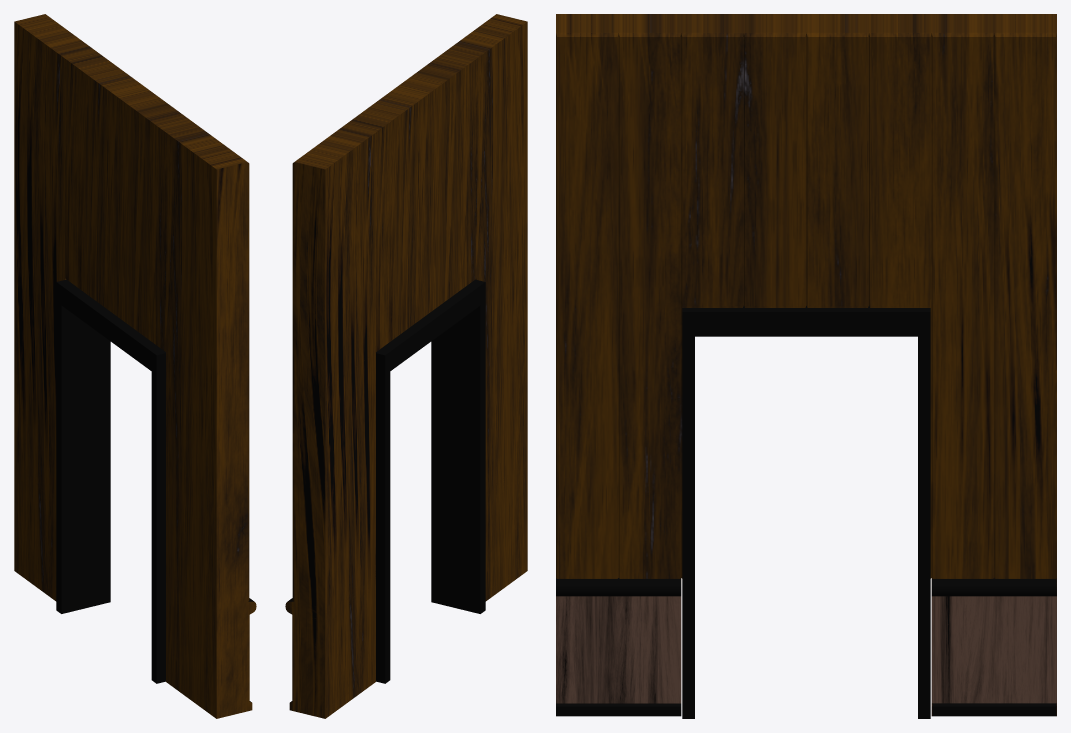
Rendered from woodDoor.fbx.
The picture shows the model from 3 angles, left to right: view 1: azimuth 30°, elevation 25°; view 2: azimuth 150°, elevation 25°; view 3: azimuth 270°, elevation 25°; orthographic projection. The views are drawn at different scales.
Visible parts, largest first — view 1: WoodDoorBaseUnity; view 2: WoodDoorBaseUnity; view 3: WoodDoorBaseUnity.
Part boxes in pixels (x1=…): WoodDoorBaseUnity: x1=14, y1=14, x2=256, y2=718; WoodDoorBaseUnity: x1=285, y1=14, x2=527, y2=718; WoodDoorBaseUnity: x1=556, y1=14, x2=1056, y2=718.
Bounding box in the file's own units: 28.05 × 300 × 200.
